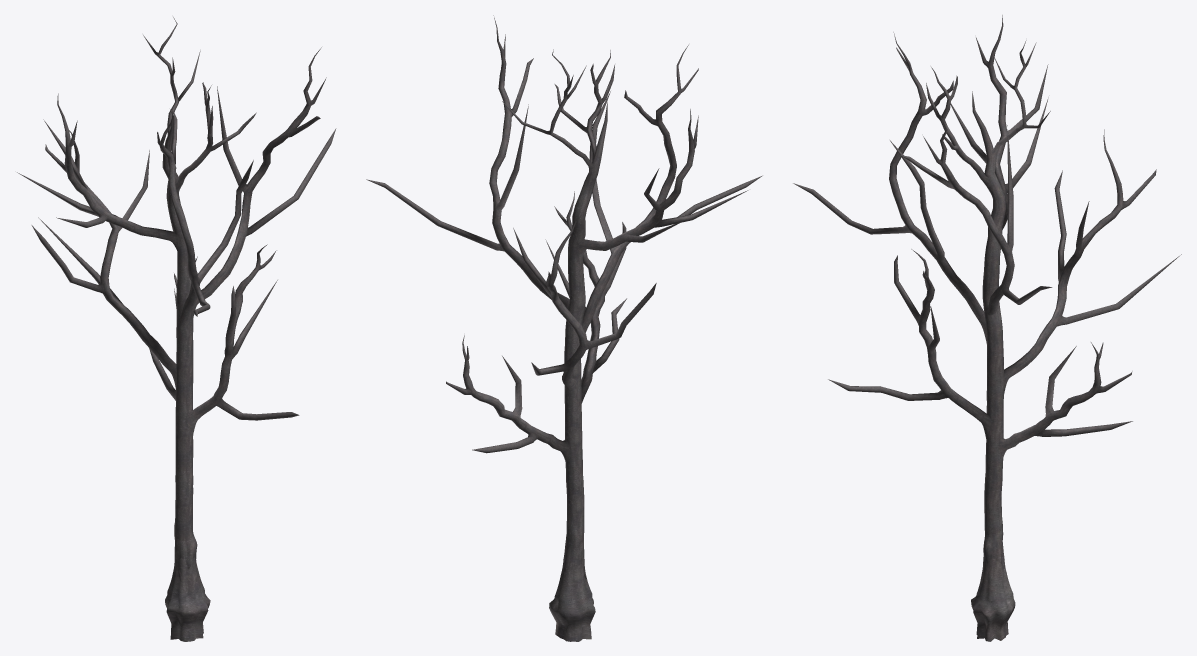
3 views of the same model, side by side, from view 1: azimuth 30°, elevation 25°; view 2: azimuth 150°, elevation 25°; view 3: azimuth 270°, elevation 25° (orthographic).
Parts seen in each view (by area): view 1: SM_FH_Ash_Tree_Bare_03_LOD0; view 2: SM_FH_Ash_Tree_Bare_03_LOD0; view 3: SM_FH_Ash_Tree_Bare_03_LOD0.
Boxes of the visible parts, <box> form: SM_FH_Ash_Tree_Bare_03_LOD0: <box>17,17,336,641</box>; SM_FH_Ash_Tree_Bare_03_LOD0: <box>366,15,762,641</box>; SM_FH_Ash_Tree_Bare_03_LOD0: <box>793,15,1181,641</box>.
Bounding box in the file's own units: 10.28 × 17.78 × 10.51.
1 material, 1 textured.
